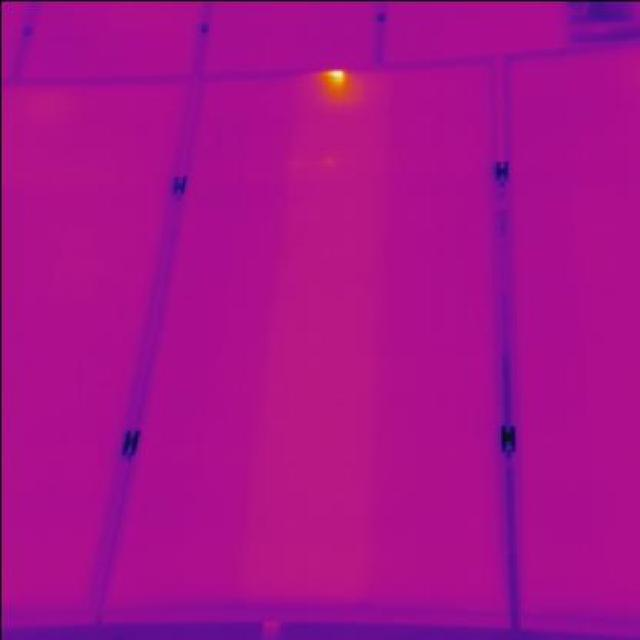hotspot: (322, 60, 356, 92)
